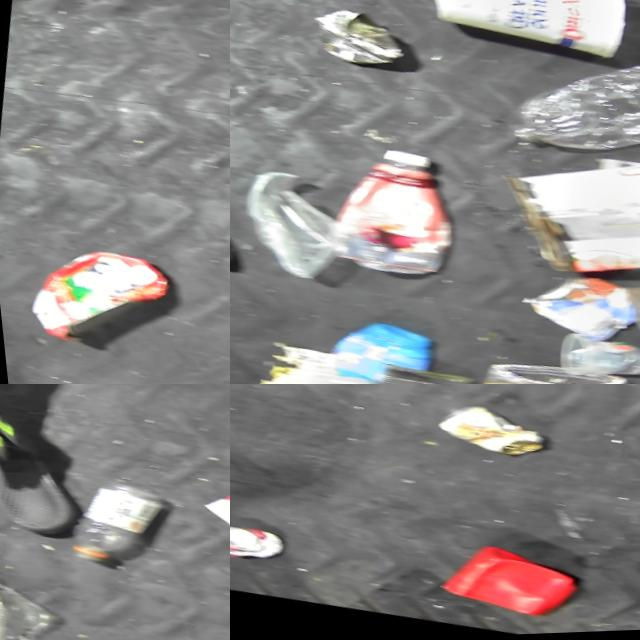can: (424, 399, 543, 466), (303, 3, 410, 77), (600, 267, 640, 363), (360, 360, 471, 384), (230, 519, 275, 567)
plastic_bottle: (492, 31, 640, 189), (49, 471, 168, 577)
